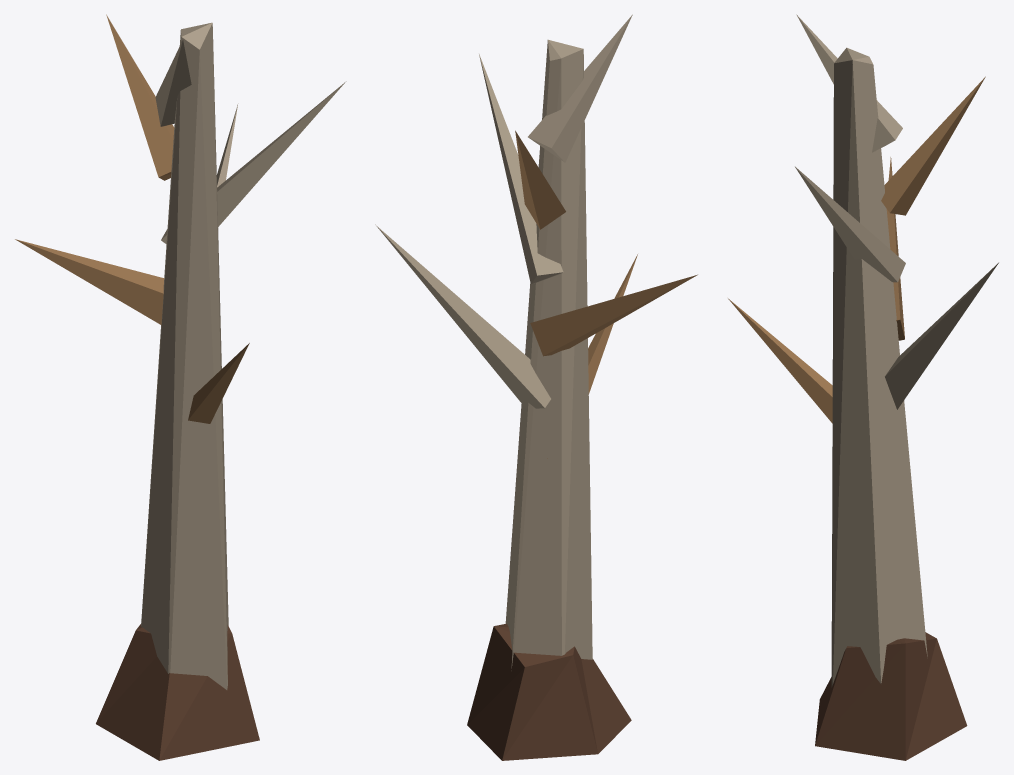
The model's file is world_tree_dead_l.obj.
3 renders of one model, left to right at view 1: azimuth 30°, elevation 25°; view 2: azimuth 150°, elevation 25°; view 3: azimuth 270°, elevation 25°, orthographic. The views are drawn at different scales.
Visible parts, largest first — view 1: world_tree_dead_l; view 2: world_tree_dead_l; view 3: world_tree_dead_l.
Boxes of the visible parts, bbox=[...] form: world_tree_dead_l: bbox=[15, 14, 346, 760]; world_tree_dead_l: bbox=[375, 14, 697, 760]; world_tree_dead_l: bbox=[728, 14, 998, 760].
Size of the model in its own units: 7.04 by 17.48 by 6.22.
